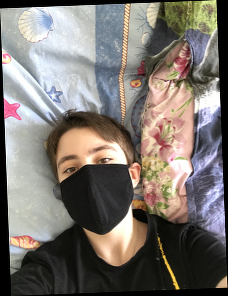with_mask: (57, 137, 134, 236)
